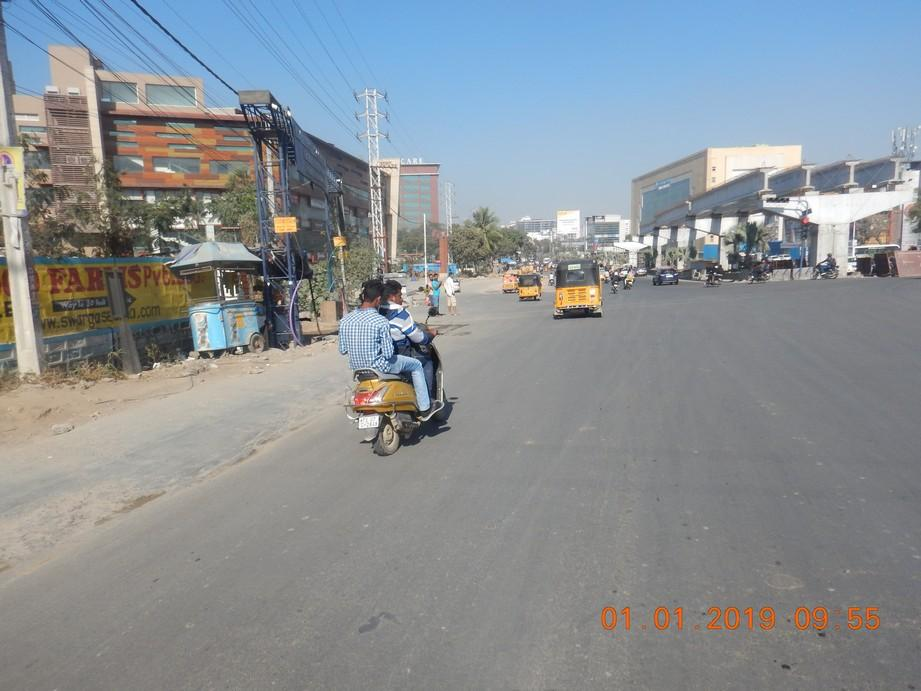plate: (354, 414, 381, 432)
